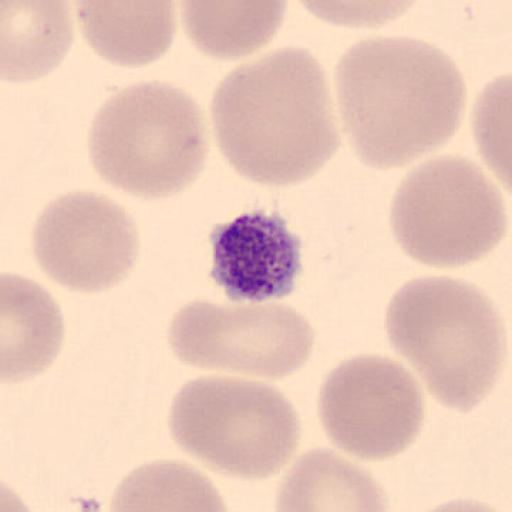Platelet: (206, 207, 307, 305)
RBC: (208, 46, 341, 190), (332, 35, 469, 170), (385, 274, 507, 414), (85, 78, 209, 202), (167, 373, 302, 482), (387, 154, 509, 271), (164, 296, 320, 380), (316, 351, 425, 463), (30, 187, 142, 294), (273, 444, 391, 512), (1, 271, 67, 385), (72, 0, 178, 69), (177, 0, 289, 61), (106, 457, 230, 512), (0, 1, 77, 85), (471, 71, 512, 191), (291, 0, 423, 31), (408, 495, 512, 512), (0, 474, 37, 512)
